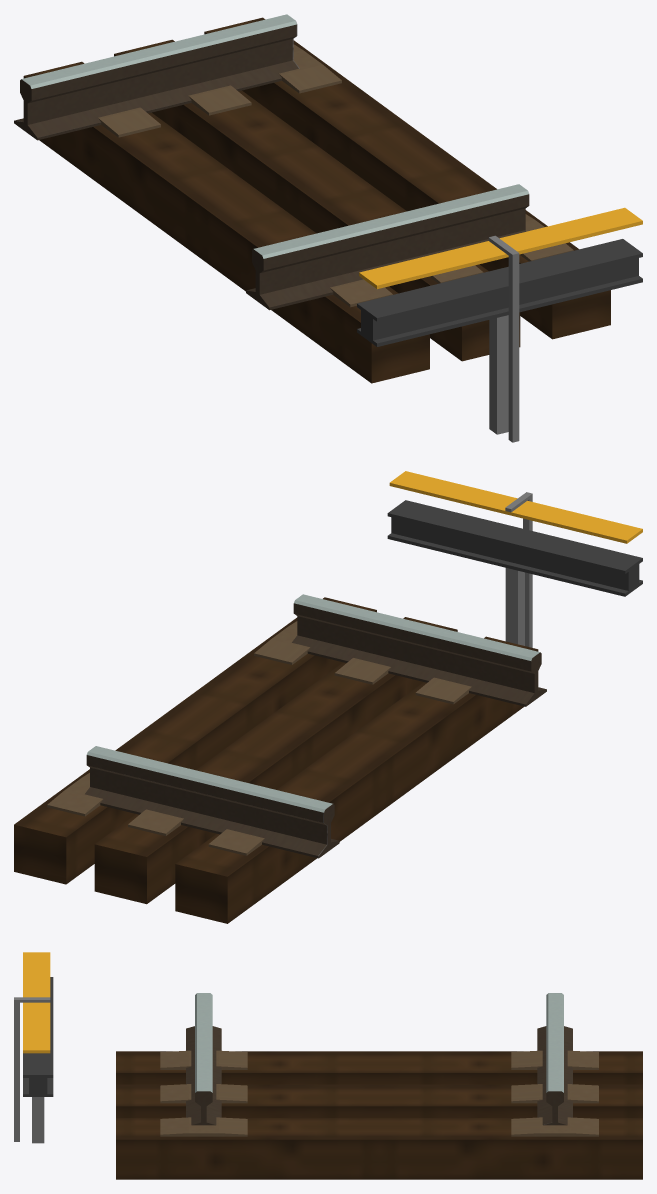
File: spsf_bridge_track_3rdrail.obj
The picture shows the model from 3 angles, top to bottom: view 1: azimuth 30°, elevation 25°; view 2: azimuth 150°, elevation 25°; view 3: azimuth 270°, elevation 25°; orthographic projection. The views are drawn at different scales.
Parts seen in each view (by area): view 1: RAIL_BASE, RAIL_BASE.003, RAIL_BASE.002_RAIL_BASE.004, RAIL_RIGHT, RAIL_LEFT, RAIL_BASE.001; view 2: RAIL_BASE, RAIL_BASE.003, RAIL_BASE.002_RAIL_BASE.004, RAIL_RIGHT, RAIL_LEFT, RAIL_BASE.001; view 3: RAIL_BASE, RAIL_BASE.003, RAIL_BASE.002_RAIL_BASE.004, RAIL_BASE.001, RAIL_RIGHT, RAIL_LEFT.
Part boxes in pixels (box(x1,y1,x2,y2)): RAIL_BASE: box(114, 17, 610, 361); RAIL_BASE.003: box(23, 61, 429, 383); RAIL_BASE.002_RAIL_BASE.004: box(357, 207, 642, 442); RAIL_RIGHT: box(14, 14, 299, 140); RAIL_LEFT: box(246, 184, 529, 310); RAIL_BASE.001: box(188, 44, 573, 283); RAIL_BASE: box(14, 597, 457, 904); RAIL_BASE.003: box(175, 636, 538, 923); RAIL_BASE.002_RAIL_BASE.004: box(387, 471, 642, 647); RAIL_RIGHT: box(85, 746, 339, 858); RAIL_LEFT: box(292, 594, 546, 706); RAIL_BASE.001: box(47, 621, 390, 836); RAIL_BASE: box(116, 1084, 642, 1179); RAIL_BASE.003: box(116, 1050, 642, 1084); RAIL_BASE.002_RAIL_BASE.004: box(14, 952, 53, 1143); RAIL_BASE.001: box(160, 1084, 598, 1136); RAIL_RIGHT: box(537, 993, 572, 1125); RAIL_LEFT: box(186, 993, 221, 1125).
Size of the model in its own units: 1.11 by 0.6752 by 2.71.
Materials: 2 (2 with a texture image).
